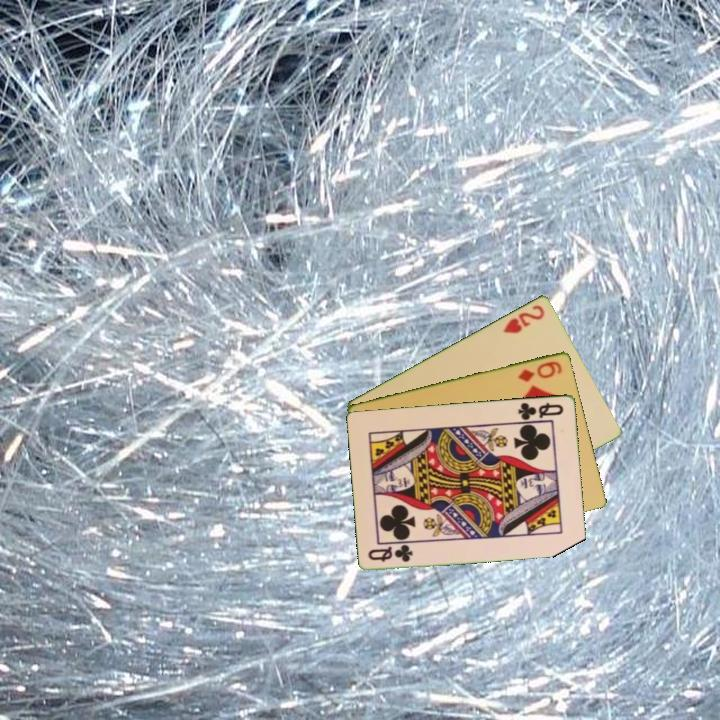2h: (500, 301, 548, 336)
6d: (514, 357, 565, 384)
Qc: (515, 399, 567, 422), (365, 542, 416, 564)
